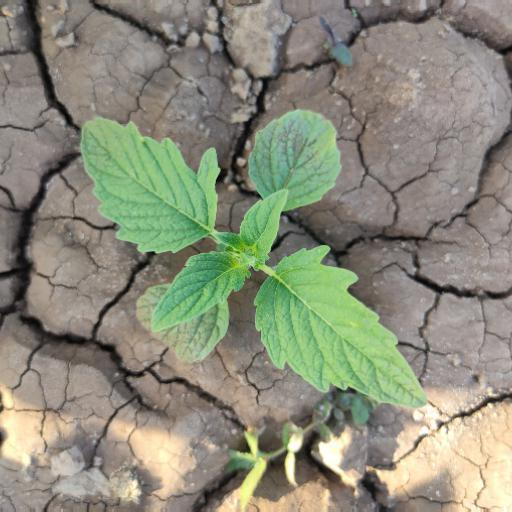crop: (68, 105, 457, 428)
